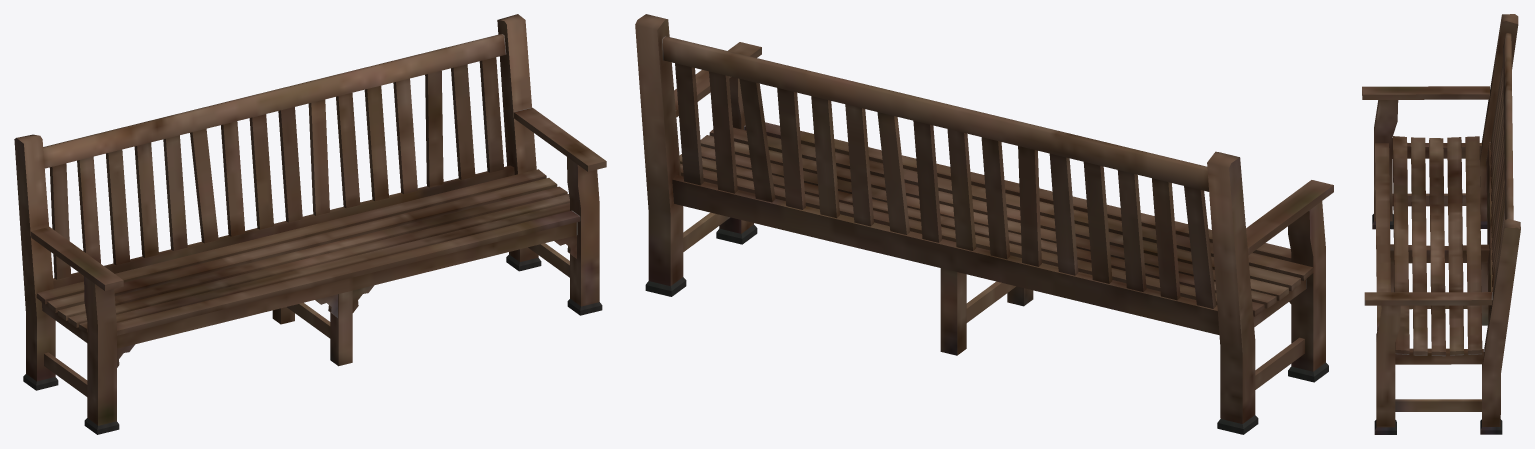
Rendered from parkbench.glb.
The picture shows the model from 3 angles, left to right: view 1: azimuth 30°, elevation 25°; view 2: azimuth 150°, elevation 25°; view 3: azimuth 270°, elevation 25°; orthographic projection. The views are drawn at different scales.
Parts seen in each view (by area): view 1: Bench_Bench Mat_0; view 2: Bench_Bench Mat_0; view 3: Bench_Bench Mat_0.
Boxes of the visible parts, x1,y1,x2,y2 form: Bench_Bench Mat_0: (14,14,606,434); Bench_Bench Mat_0: (635,14,1333,434); Bench_Bench Mat_0: (1362,14,1520,434).
Bounding box in the file's own units: 2.66 × 1.2 × 0.8296.
1 material, 1 textured.
